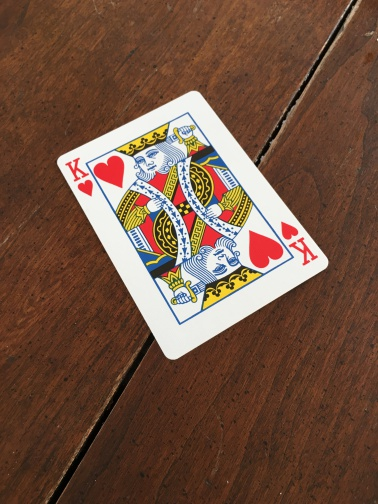king: (55, 90, 332, 362)
